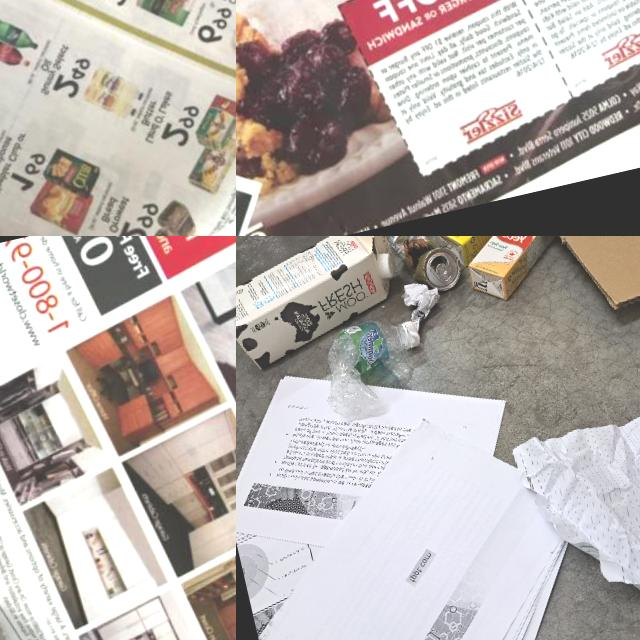aba de lata: (434, 260, 452, 282)
caixinha: (236, 236, 412, 376), (456, 236, 567, 307), (424, 236, 538, 272)
garrafa plástica: (311, 314, 416, 424)
lata: (385, 236, 465, 300)
papel: (236, 323, 621, 640), (236, 0, 640, 236), (0, 236, 236, 640), (0, 0, 236, 236), (507, 394, 640, 640), (399, 278, 446, 332)
papelão: (470, 236, 640, 333)
tampa plástica: (401, 320, 420, 348), (378, 252, 396, 278)
